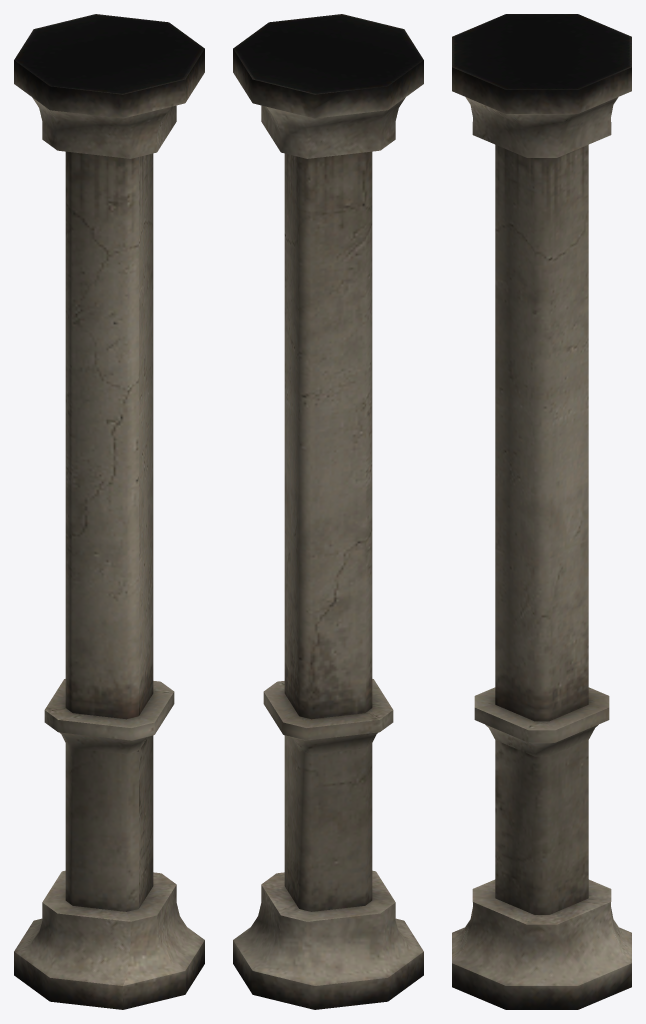
The model's file is welder_01.DAE.
3 views of the same model, side by side, from view 1: azimuth 30°, elevation 25°; view 2: azimuth 150°, elevation 25°; view 3: azimuth 270°, elevation 25° (orthographic).
Parts seen in each view (by area): view 1: mansionbase_welder001; view 2: mansionbase_welder001; view 3: mansionbase_welder001.
Boxes of the visible parts, x1,y1,x2,y2 form: mansionbase_welder001: (14,14,204,1009); mansionbase_welder001: (233,14,423,1009); mansionbase_welder001: (452,14,631,1009).
Bounding box in the file's own units: 0.7087 × 4 × 0.7087.
